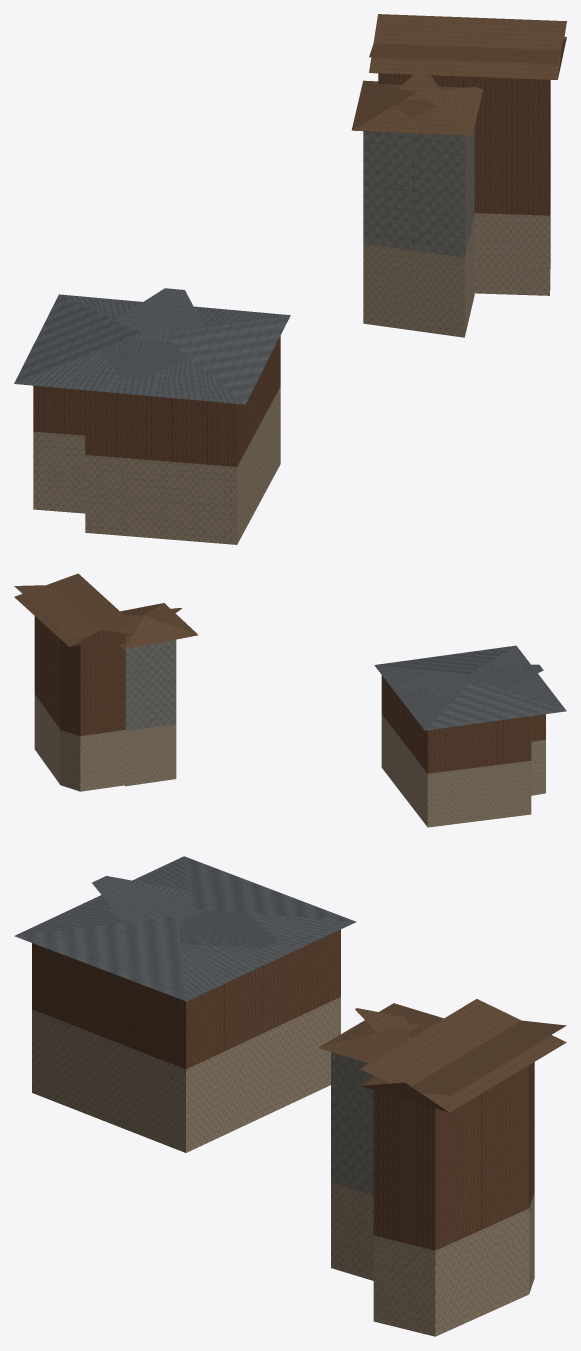
File: bld_c14_36_412.gltf
The picture shows the model from 3 angles, top to bottom: view 1: azimuth 30°, elevation 25°; view 2: azimuth 150°, elevation 25°; view 3: azimuth 270°, elevation 25°; orthographic projection. The views are drawn at different scales.
Parts seen in each view (by area): view 1: bld_c14_36_412; view 2: bld_c14_36_412; view 3: bld_c14_36_412.
Part boxes in pixels (x1,y1,x2,y2): bld_c14_36_412: (14, 14, 566, 544); bld_c14_36_412: (14, 573, 566, 827); bld_c14_36_412: (14, 856, 566, 1336).
Bounding box in the file's own units: 45.05 × 16.1 × 29.71.
6 materials, 6 textured.
